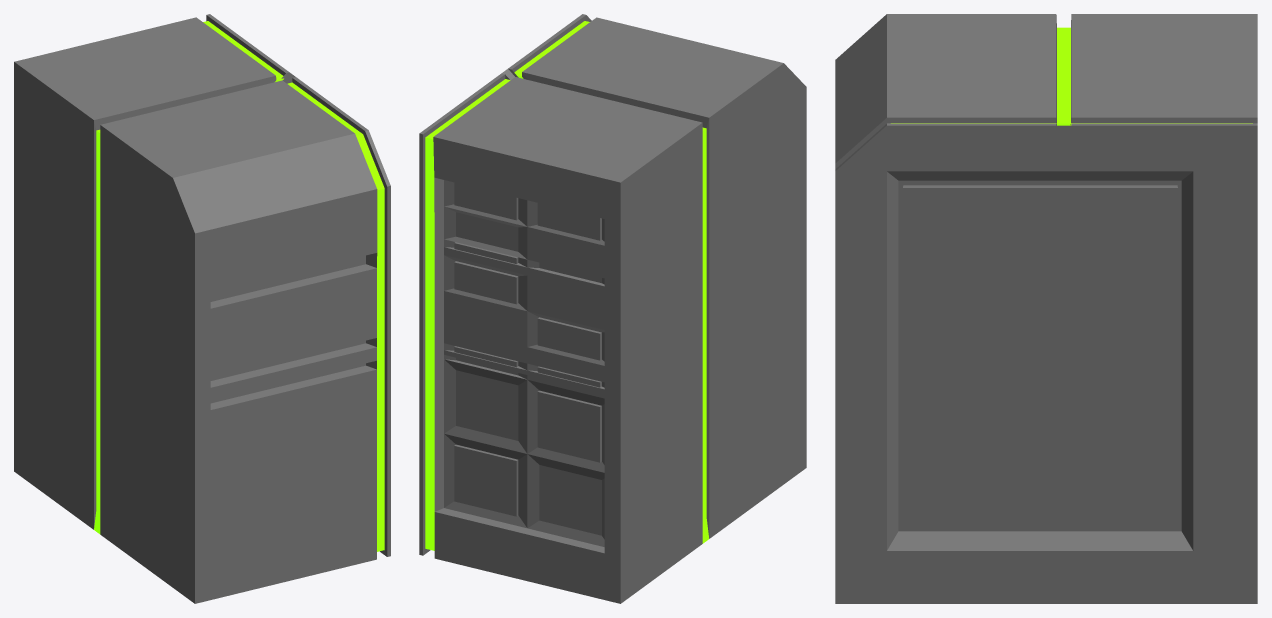
The model's file is server.gltf.
3 renders of one model, left to right at view 1: azimuth 30°, elevation 25°; view 2: azimuth 150°, elevation 25°; view 3: azimuth 270°, elevation 25°, orthographic. The views are drawn at different scales.
Visible parts, largest first — view 1: Server; view 2: Server; view 3: Server.
Part boxes in pixels (x1,y1,x2,y2): Server: (14,14,390,603); Server: (419,14,806,603); Server: (835,14,1257,603).
Bounding box in the file's own units: 1 × 2 × 1.6.
